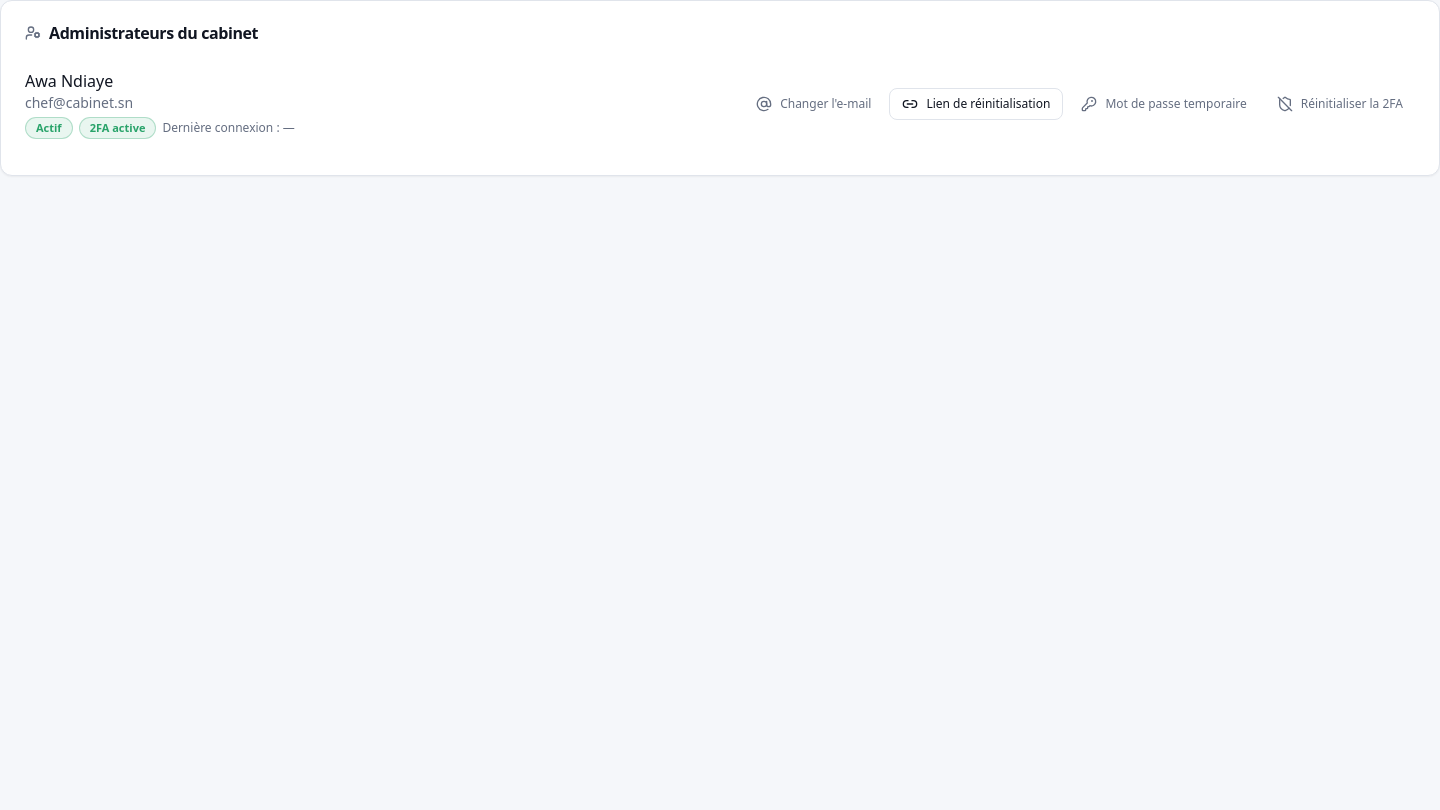
Test case: administrateurs d'un cabinet › le mot de passe temporaire s’affiche une fois, après un motif
Click the button "Mot de passe temporaire" at (1164, 104), box [1069, 88, 1259, 120]
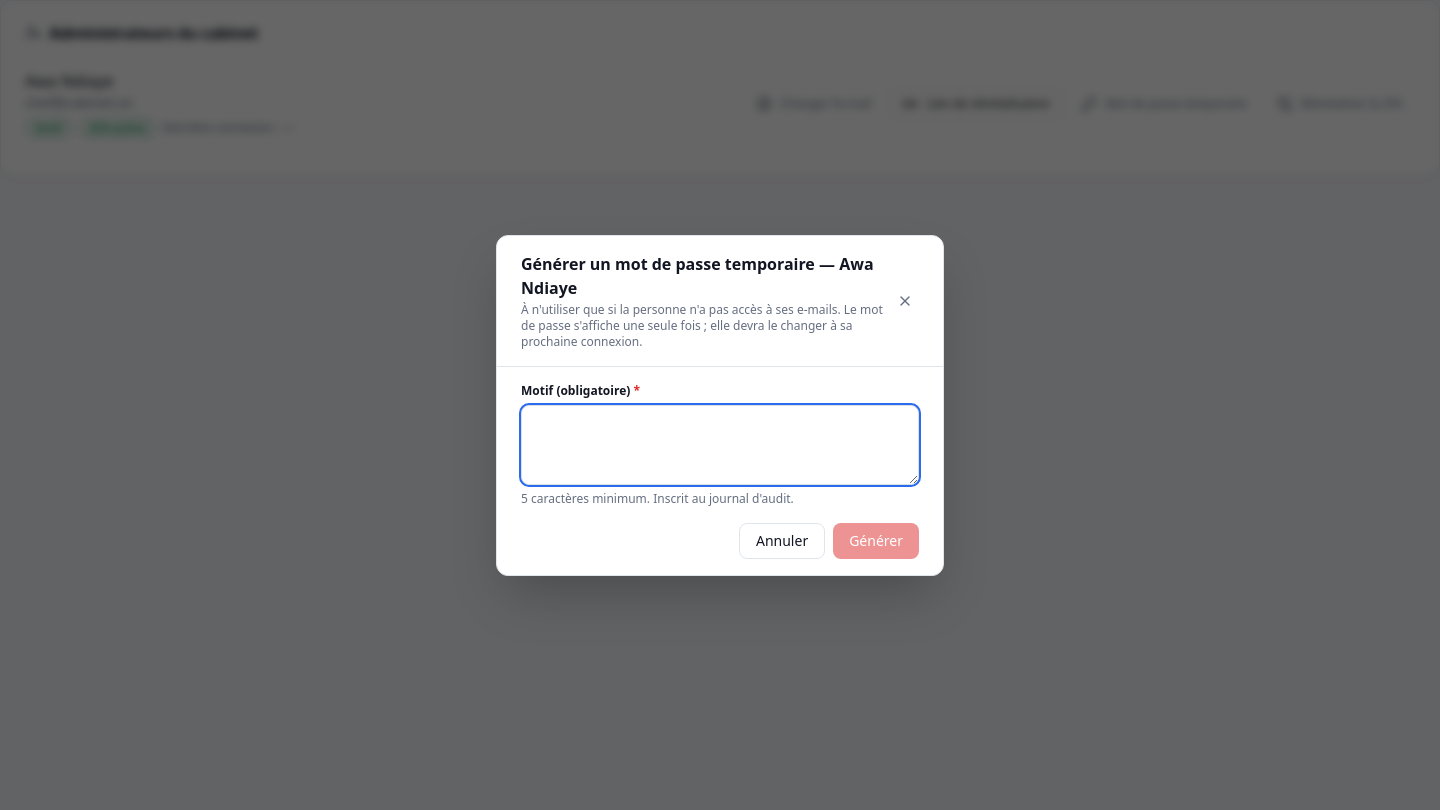
Type "Mot de passe oublié" into the text box labelled "Motif (obligatoire) *" at (720, 444), box [521, 404, 919, 484]
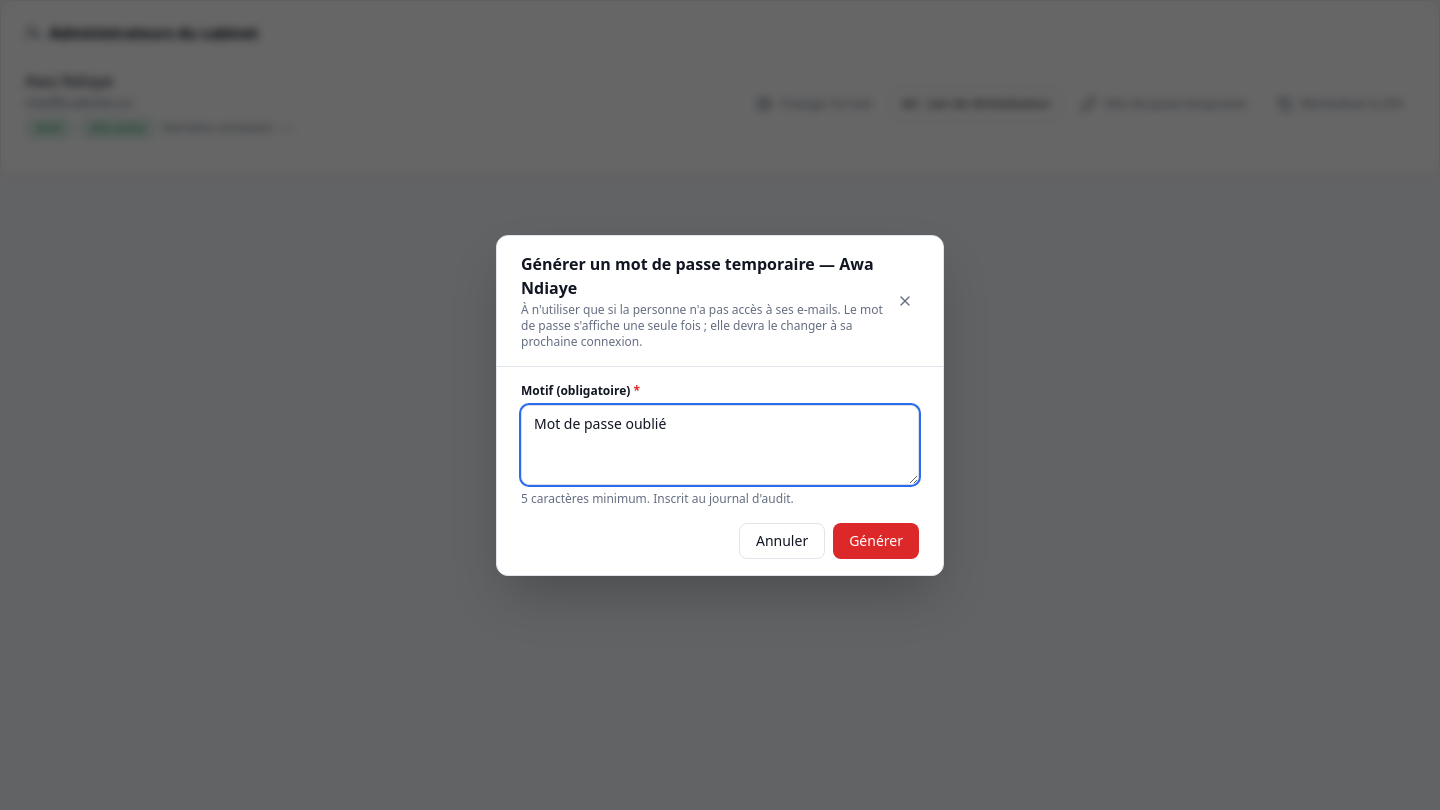
Click the button "Générer" at (876, 540), box [833, 522, 919, 558]
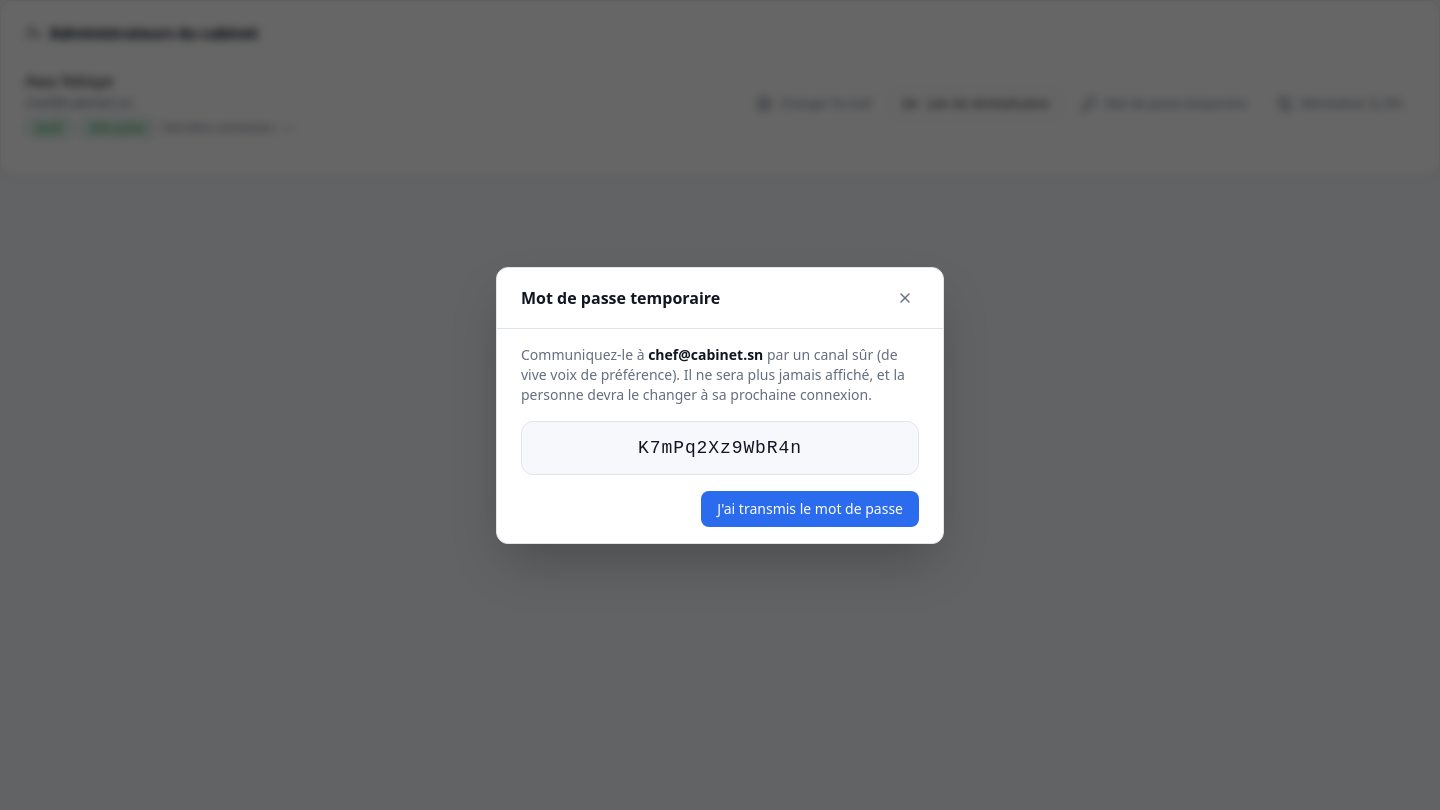
Expected: the text "K7mPq2Xz9WbR4n" is shown, [521, 420, 919, 474]
